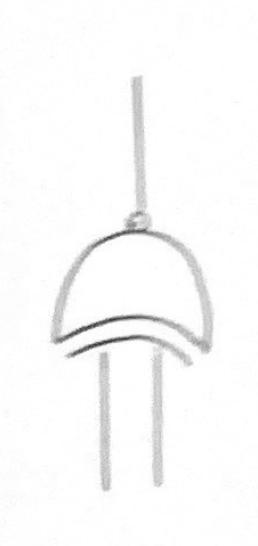XNOR: (23, 205, 238, 376)
